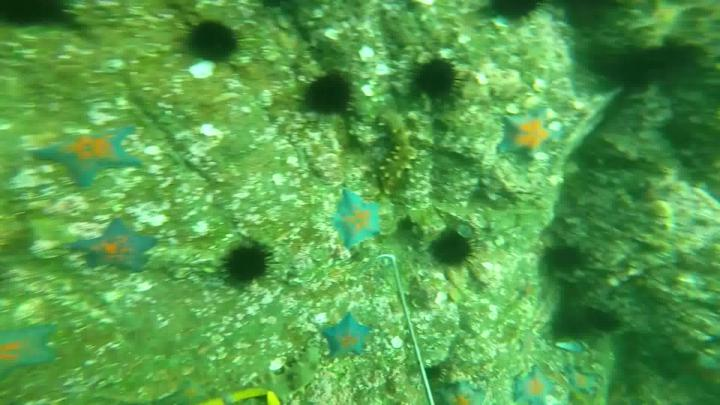echinus: (298, 70, 352, 112), (222, 242, 275, 284), (186, 19, 242, 56), (408, 59, 459, 98), (553, 311, 617, 341), (1, 1, 70, 27), (433, 229, 474, 267), (488, 1, 543, 22), (546, 249, 582, 269)
holothurian: (375, 112, 416, 190)
scallop: (187, 63, 217, 79), (268, 359, 288, 371), (363, 84, 380, 98), (357, 45, 375, 58), (392, 337, 407, 351), (376, 65, 393, 76), (146, 145, 162, 155)
starfish: (35, 125, 141, 183), (67, 217, 156, 278), (334, 190, 386, 250), (499, 108, 555, 159), (319, 315, 372, 362), (4, 326, 59, 366), (516, 369, 556, 405), (439, 379, 489, 405), (566, 367, 600, 394)
